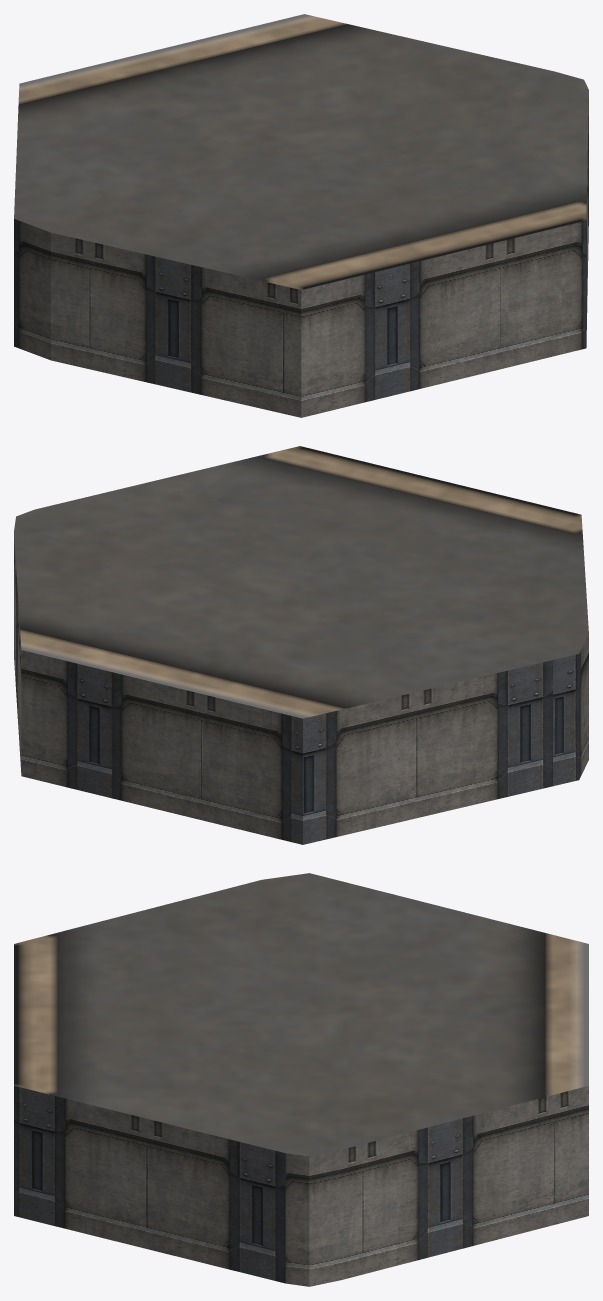
Rendered from building_heavy_54.glb.
The picture shows the model from 3 angles, top to bottom: view 1: azimuth 30°, elevation 25°; view 2: azimuth 150°, elevation 25°; view 3: azimuth 270°, elevation 25°; orthographic projection. The views are drawn at different scales.
Visible parts, largest first — view 1: buildings/saxarba/building_heavy/building_heavy_54; view 2: buildings/saxarba/building_heavy/building_heavy_54; view 3: buildings/saxarba/building_heavy/building_heavy_54.
Boxes of the visible parts, bbox=[...] form: buildings/saxarba/building_heavy/building_heavy_54: bbox=[14, 14, 588, 417]; buildings/saxarba/building_heavy/building_heavy_54: bbox=[14, 446, 588, 844]; buildings/saxarba/building_heavy/building_heavy_54: bbox=[14, 873, 588, 1286].
Size of the model in its own units: 84 by 18 by 72.
